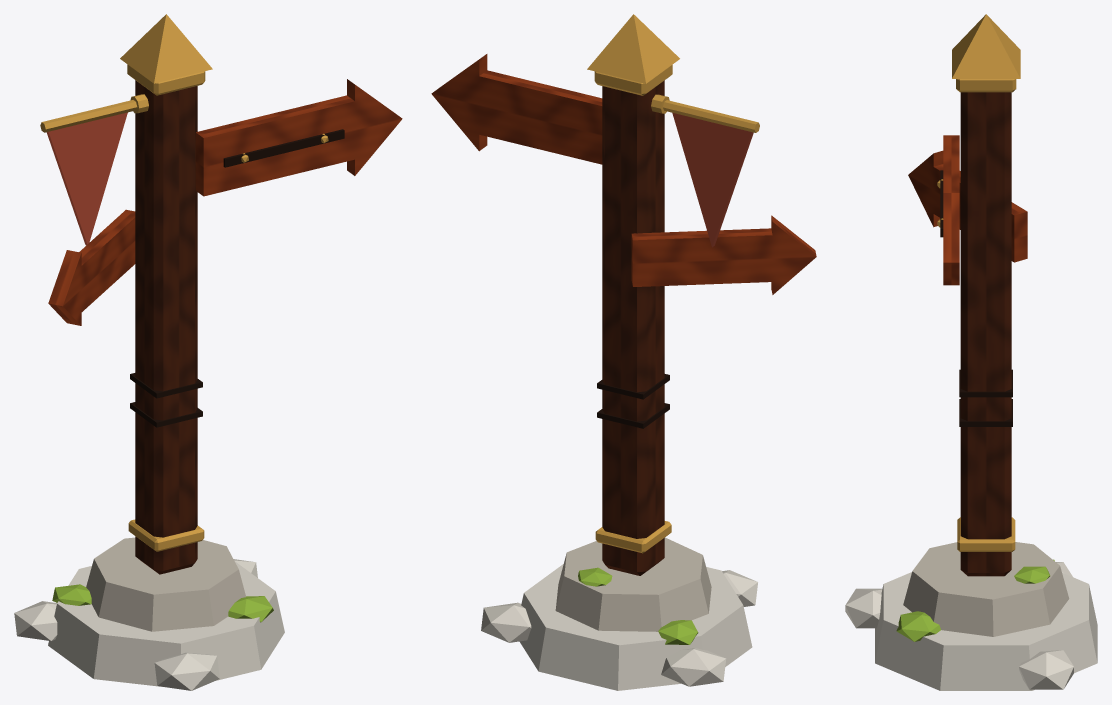
Rendered from waymarker.glb.
The picture shows the model from 3 angles, left to right: view 1: azimuth 30°, elevation 25°; view 2: azimuth 150°, elevation 25°; view 3: azimuth 270°, elevation 25°; orthographic projection.
Visible parts, largest first — view 1: Post, Footing, SignArrows, Pennant; view 2: Post, Footing, SignArrows, Pennant; view 3: Post, Footing, SignArrows.
Boxes of the visible parts, x1=… form: Post: x1=120, y1=14, x2=212, y2=574; Footing: x1=14, y1=537, x2=284, y2=690; SignArrows: x1=48, y1=79, x2=402, y2=325; Pennant: x1=40, y1=94, x2=148, y2=245; Post: x1=587, y1=14, x2=679, y2=575; Footing: x1=481, y1=537, x2=757, y2=690; SignArrows: x1=431, y1=54, x2=816, y2=294; Pennant: x1=651, y1=94, x2=759, y2=247; Post: x1=952, y1=14, x2=1020, y2=576; Footing: x1=845, y1=542, x2=1097, y2=690; SignArrows: x1=908, y1=135, x2=1027, y2=285.
Size of the model in its own units: 0.9177 by 1.5 by 0.5441.
Materials: 8 (3 with a texture image).
